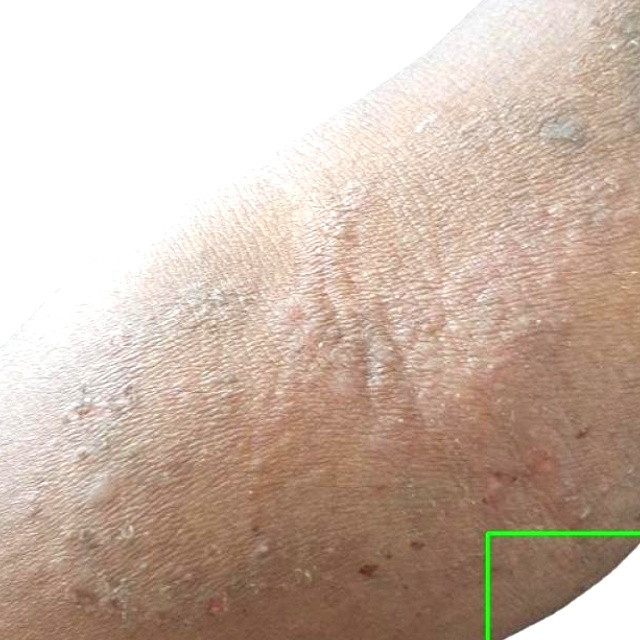Tinea Corporis: (487, 533, 639, 639)
